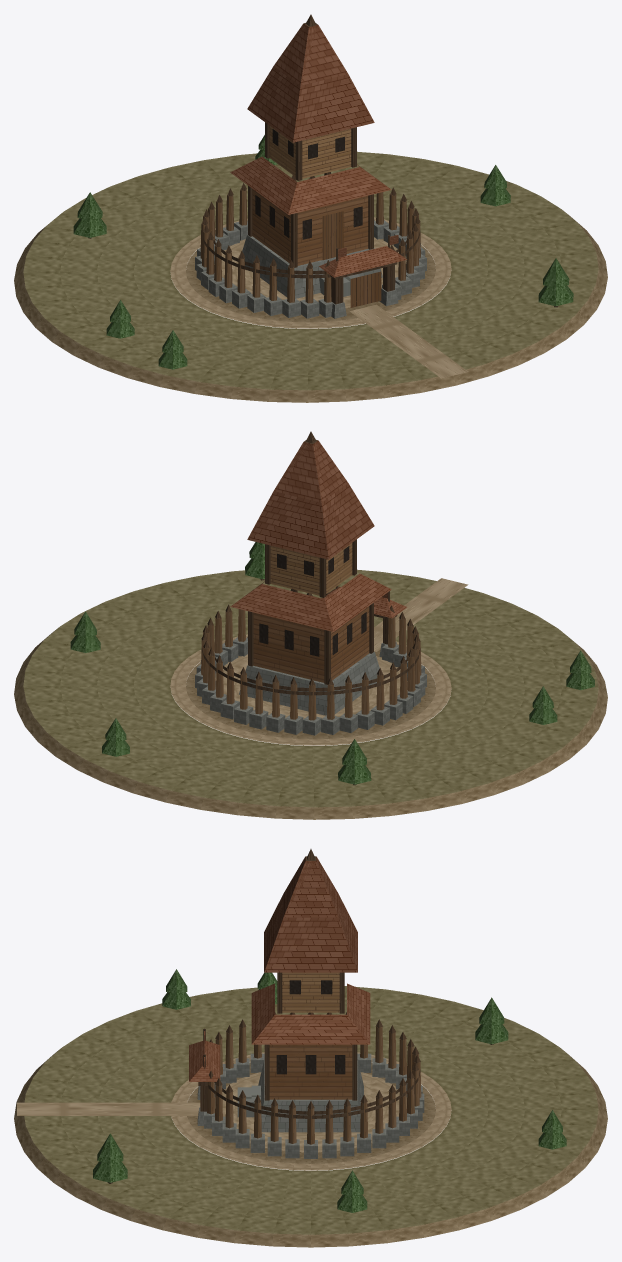
Rendered from keep_small_lod0.glb.
3 views of the same model, one above another, from view 1: azimuth 30°, elevation 25°; view 2: azimuth 150°, elevation 25°; view 3: azimuth 270°, elevation 25° (orthographic). The views are drawn at different scales.
Visible parts, largest first — view 1: keep_small_lod0; view 2: keep_small_lod0; view 3: keep_small_lod0.
Part boxes in pixels (x1,y1,x2,y2): keep_small_lod0: (14, 14, 607, 402); keep_small_lod0: (14, 431, 607, 819); keep_small_lod0: (14, 849, 607, 1247).
Bounding box in the file's own units: 1.89 × 0.9261 × 1.84.
Materials: 1 (1 with a texture image).
